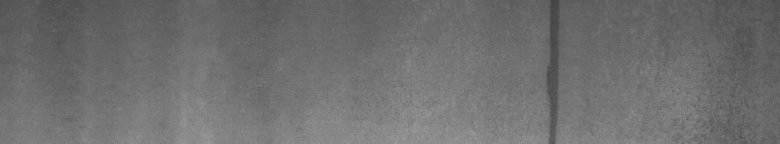hd: (541, 4, 564, 136)
